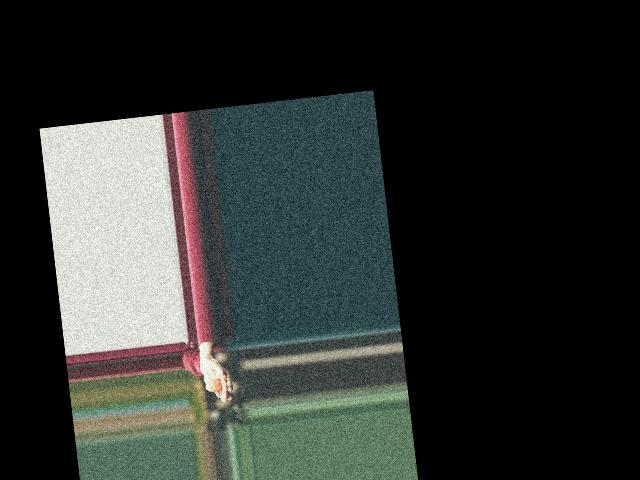egg: (205, 378, 222, 392)
